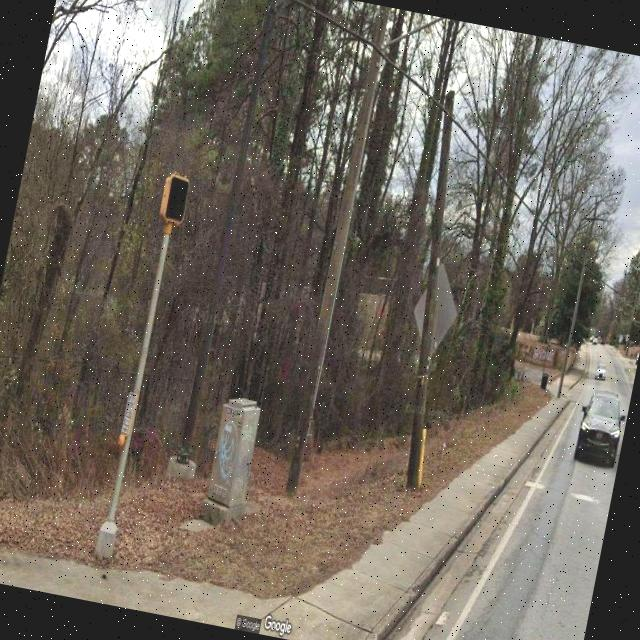trash_can: (540, 372, 549, 390)
